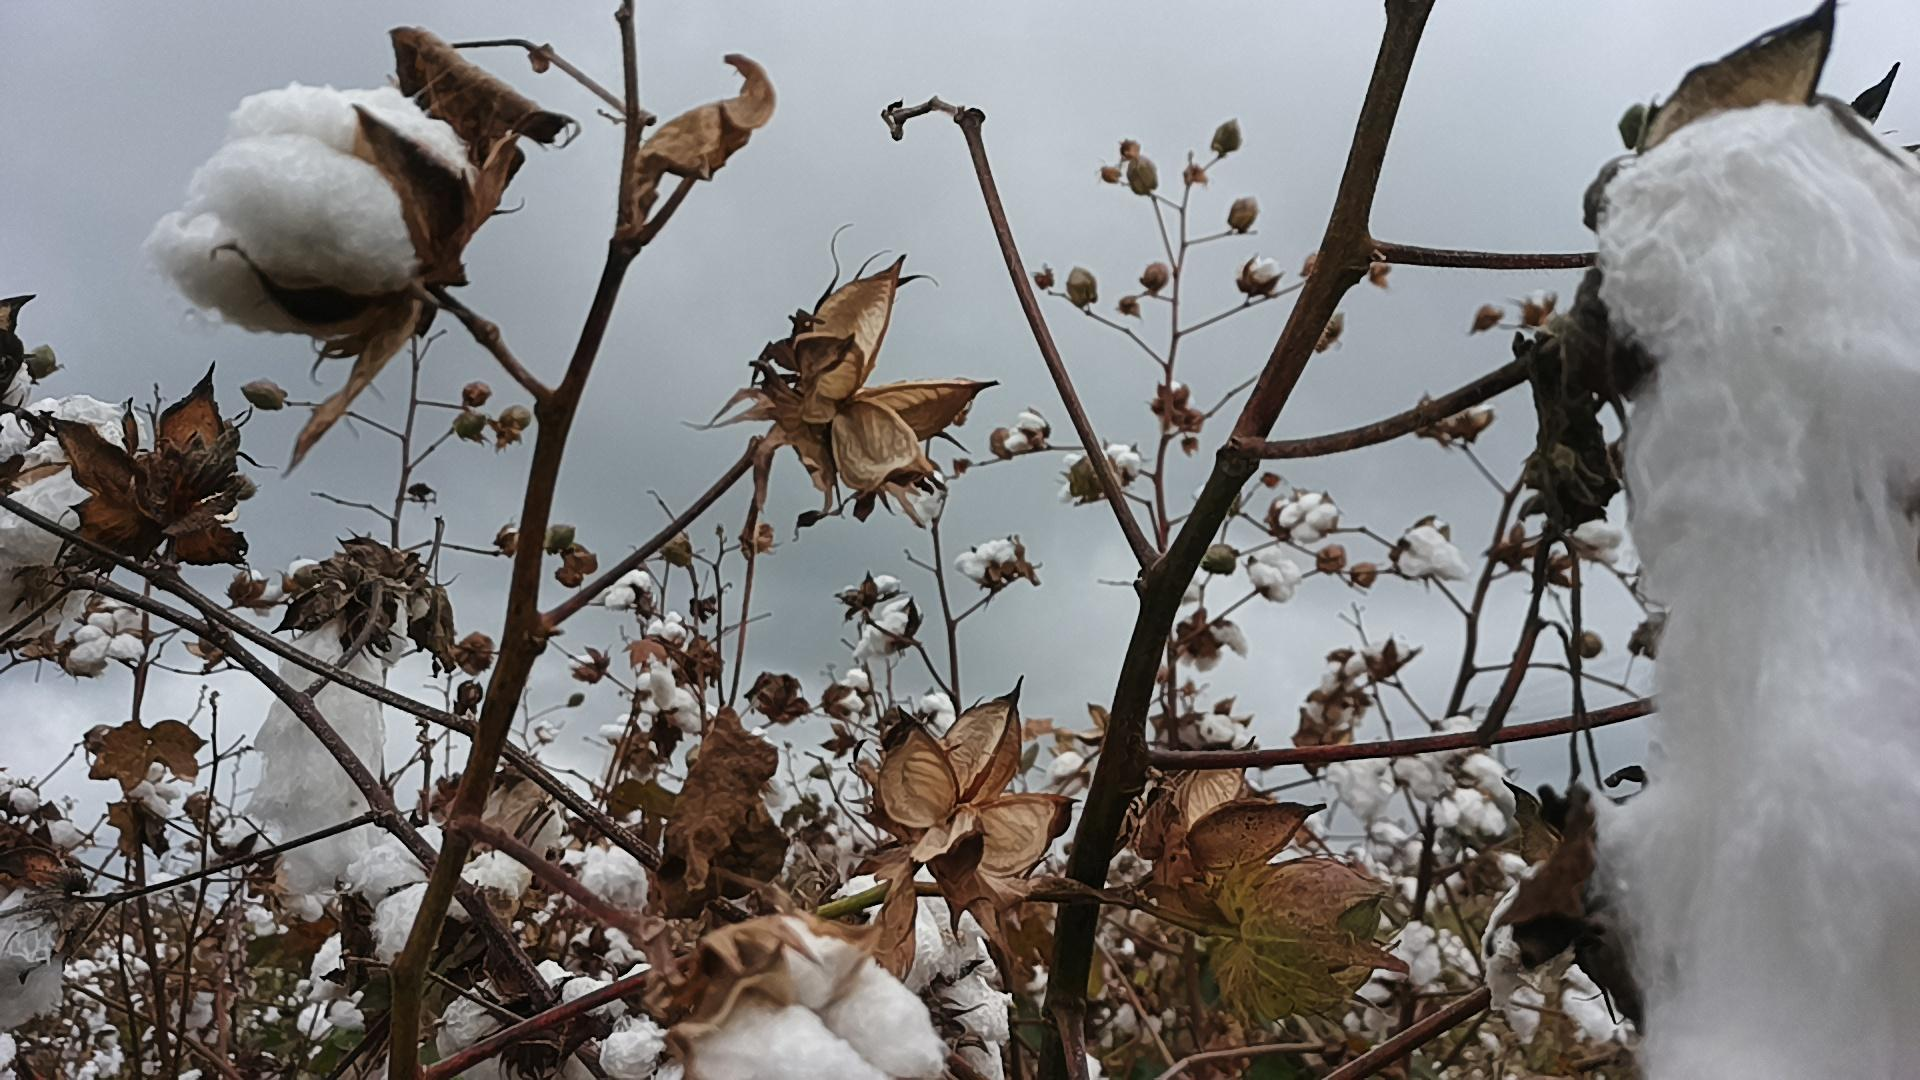cotton_ready: (1601, 103, 1920, 1080), (154, 88, 476, 331), (255, 563, 407, 893), (692, 920, 940, 1080), (1484, 789, 1658, 1015), (837, 865, 1011, 1079), (434, 963, 659, 1080), (345, 825, 527, 971), (0, 396, 150, 568), (1509, 968, 1622, 1058), (0, 890, 66, 1033), (443, 789, 562, 856), (0, 562, 92, 642), (568, 840, 646, 919), (74, 604, 142, 669), (1433, 790, 1505, 832)
